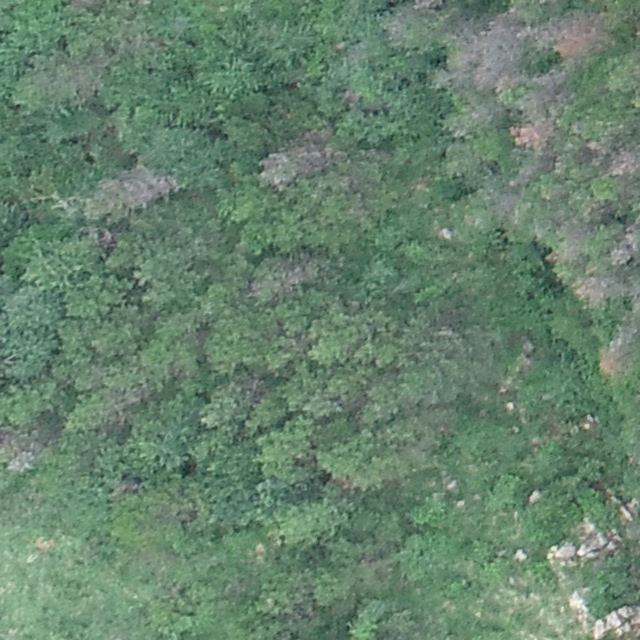unhealthy: (444, 13, 527, 93), (260, 130, 336, 189), (255, 248, 340, 300), (97, 164, 179, 212), (552, 11, 608, 59), (523, 66, 572, 113), (596, 329, 634, 379), (508, 118, 556, 149), (608, 219, 639, 265), (573, 274, 617, 306), (605, 144, 639, 178), (4, 447, 40, 474), (405, 0, 446, 11)
